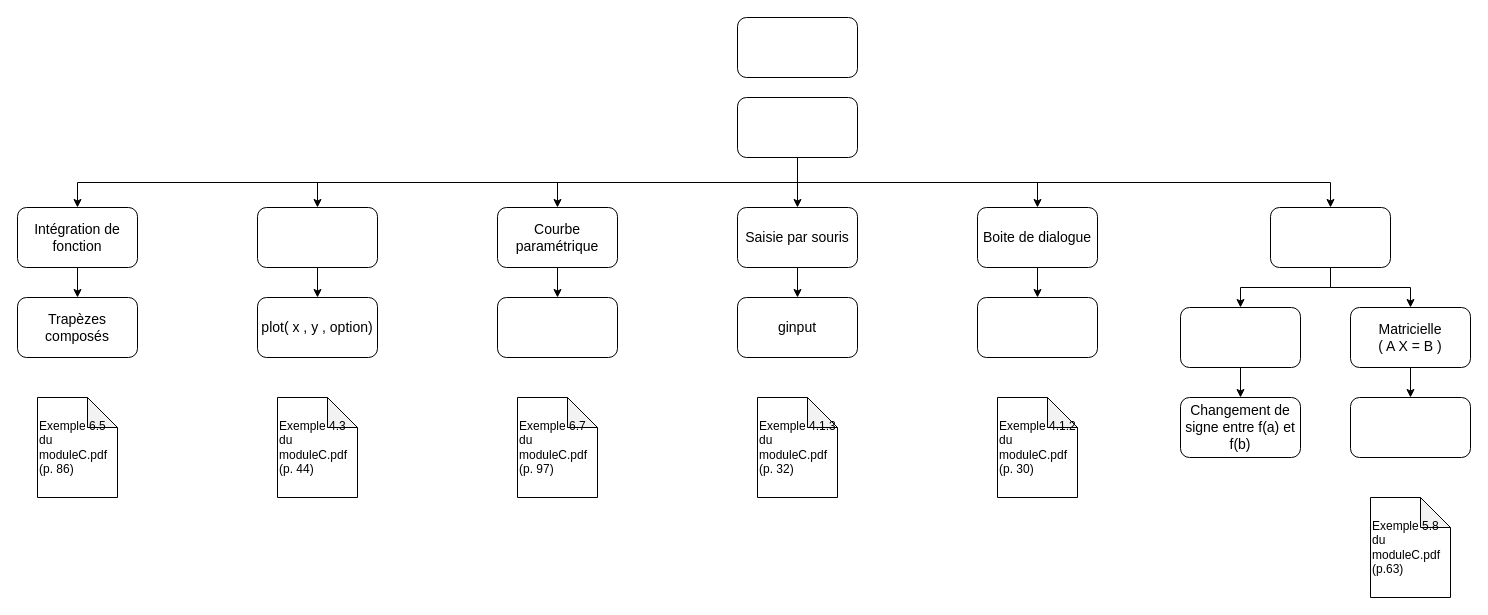
Some shapes in this 1488 by 615 pixel diagram are drawn without their labels. The shapes that lost their labels are listed below. From the top down, each one's centre as x and y in pixels, then its label:
(x=797, y=47): Module C1
(x=797, y=127): Outil et techniques de calcul
(x=317, y=237): Graphisme
(x=1330, y=237): Trouver zéros ou racine
(x=557, y=327): x et y fonction de paramètre
(x=1037, y=327): Inputdlg
(x=1240, y=337): Méthode Bissection
(x=1410, y=427): Système d'équations linéaire
